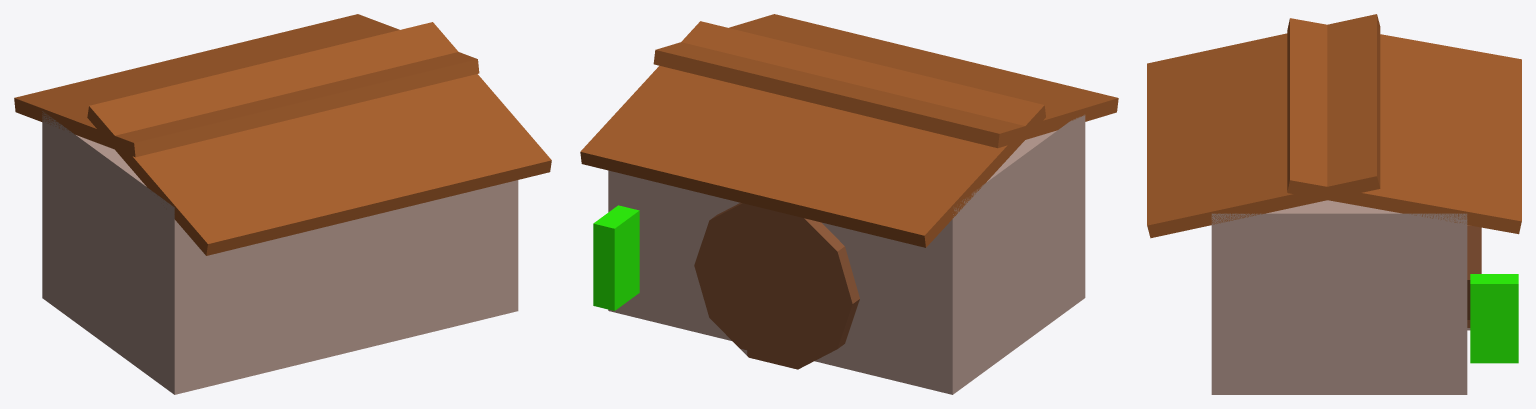
The model's file is building 1.fbx.
The picture shows the model from 3 angles, left to right: view 1: azimuth 30°, elevation 25°; view 2: azimuth 150°, elevation 25°; view 3: azimuth 270°, elevation 25°; orthographic projection. The views are drawn at different scales.
Visible parts, largest first — view 1: pCube27, pCube29, pCube28; view 2: pCube27, pCube28, pCube29, pCylinder1, pCube30; view 3: pCube27, pCube29, pCube28, pCube30, pCylinder1.
Boxes of the visible parts, x1=… form: pCube27: x1=42, y1=111, x2=518, y2=394; pCube29: x1=87, y1=22, x2=551, y2=255; pCube28: x1=14, y1=14, x2=479, y2=157; pCube27: x1=608, y1=114, x2=1085, y2=394; pCube28: x1=580, y1=21, x2=1045, y2=247; pCube29: x1=653, y1=14, x2=1118, y2=148; pCylinder1: x1=694, y1=202, x2=859, y2=369; pCube30: x1=593, y1=205, x2=639, y2=310; pCube27: x1=1211, y1=200, x2=1467, y2=394; pCube29: x1=1147, y1=14, x2=1380, y2=238; pCube28: x1=1287, y1=18, x2=1521, y2=234; pCube30: x1=1470, y1=274, x2=1518, y2=363; pCylinder1: x1=1467, y1=225, x2=1481, y2=330.
Size of the model in its own units: 12 by 7.73 by 11.72.
